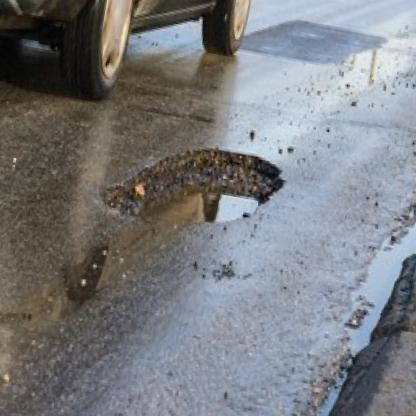pothole: (96, 129, 290, 248)
